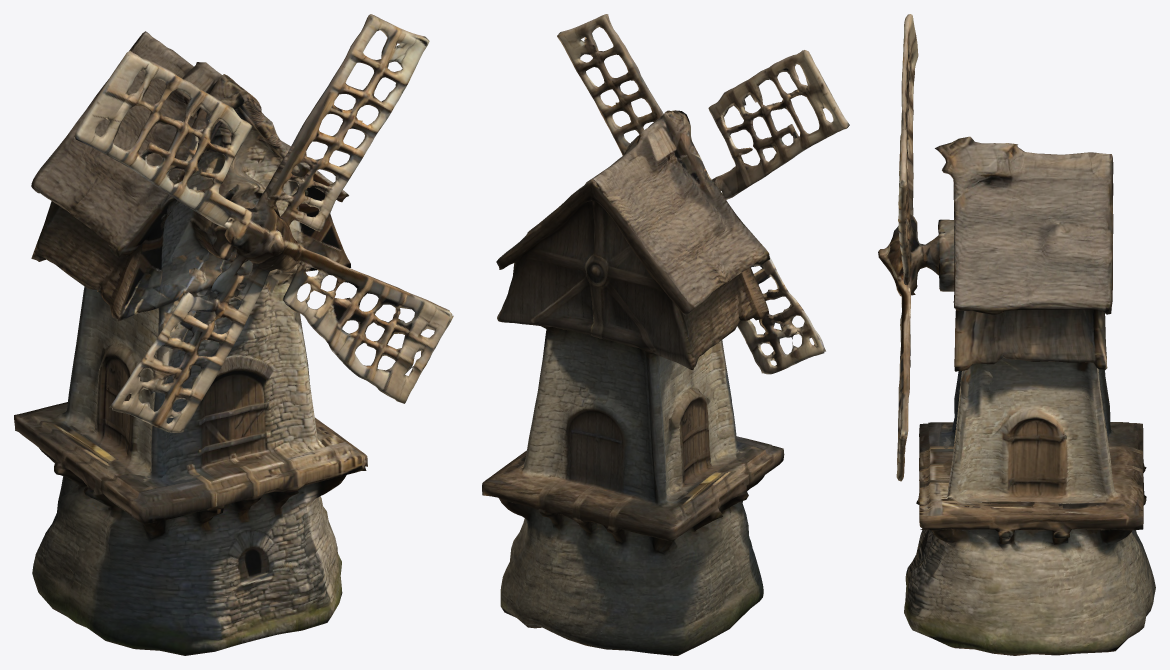
File: windmill.glb
The picture shows the model from 3 angles, left to right: view 1: azimuth 30°, elevation 25°; view 2: azimuth 150°, elevation 25°; view 3: azimuth 270°, elevation 25°; orthographic projection. The views are drawn at different scales.
Size of the model in its own units: 1.22 by 1.99 by 0.9247.
Materials: 1 (1 with a texture image).
